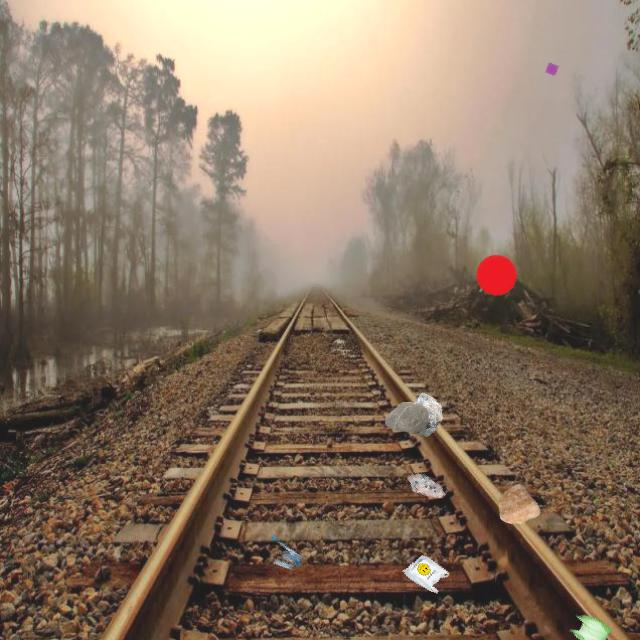0 plastic_garbage_on_track: (402, 555, 449, 594), (568, 613, 612, 640)
1 stone_on_track: (498, 483, 541, 524), (409, 392, 443, 436), (385, 401, 430, 433), (407, 473, 446, 498)
2 negative_shape: (476, 254, 517, 296), (545, 61, 560, 76)
4 track: (101, 339, 630, 639)
